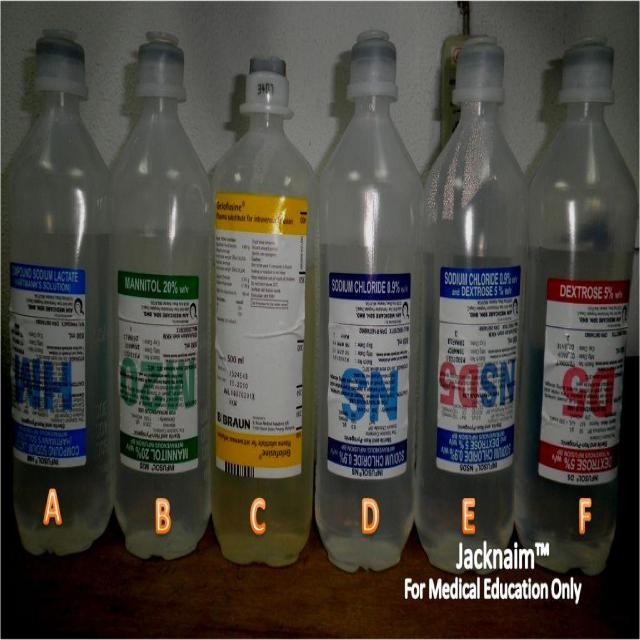B3: (210, 35, 320, 577), (423, 36, 531, 545), (114, 29, 210, 599), (321, 24, 418, 572), (535, 24, 635, 555), (10, 32, 110, 560)
